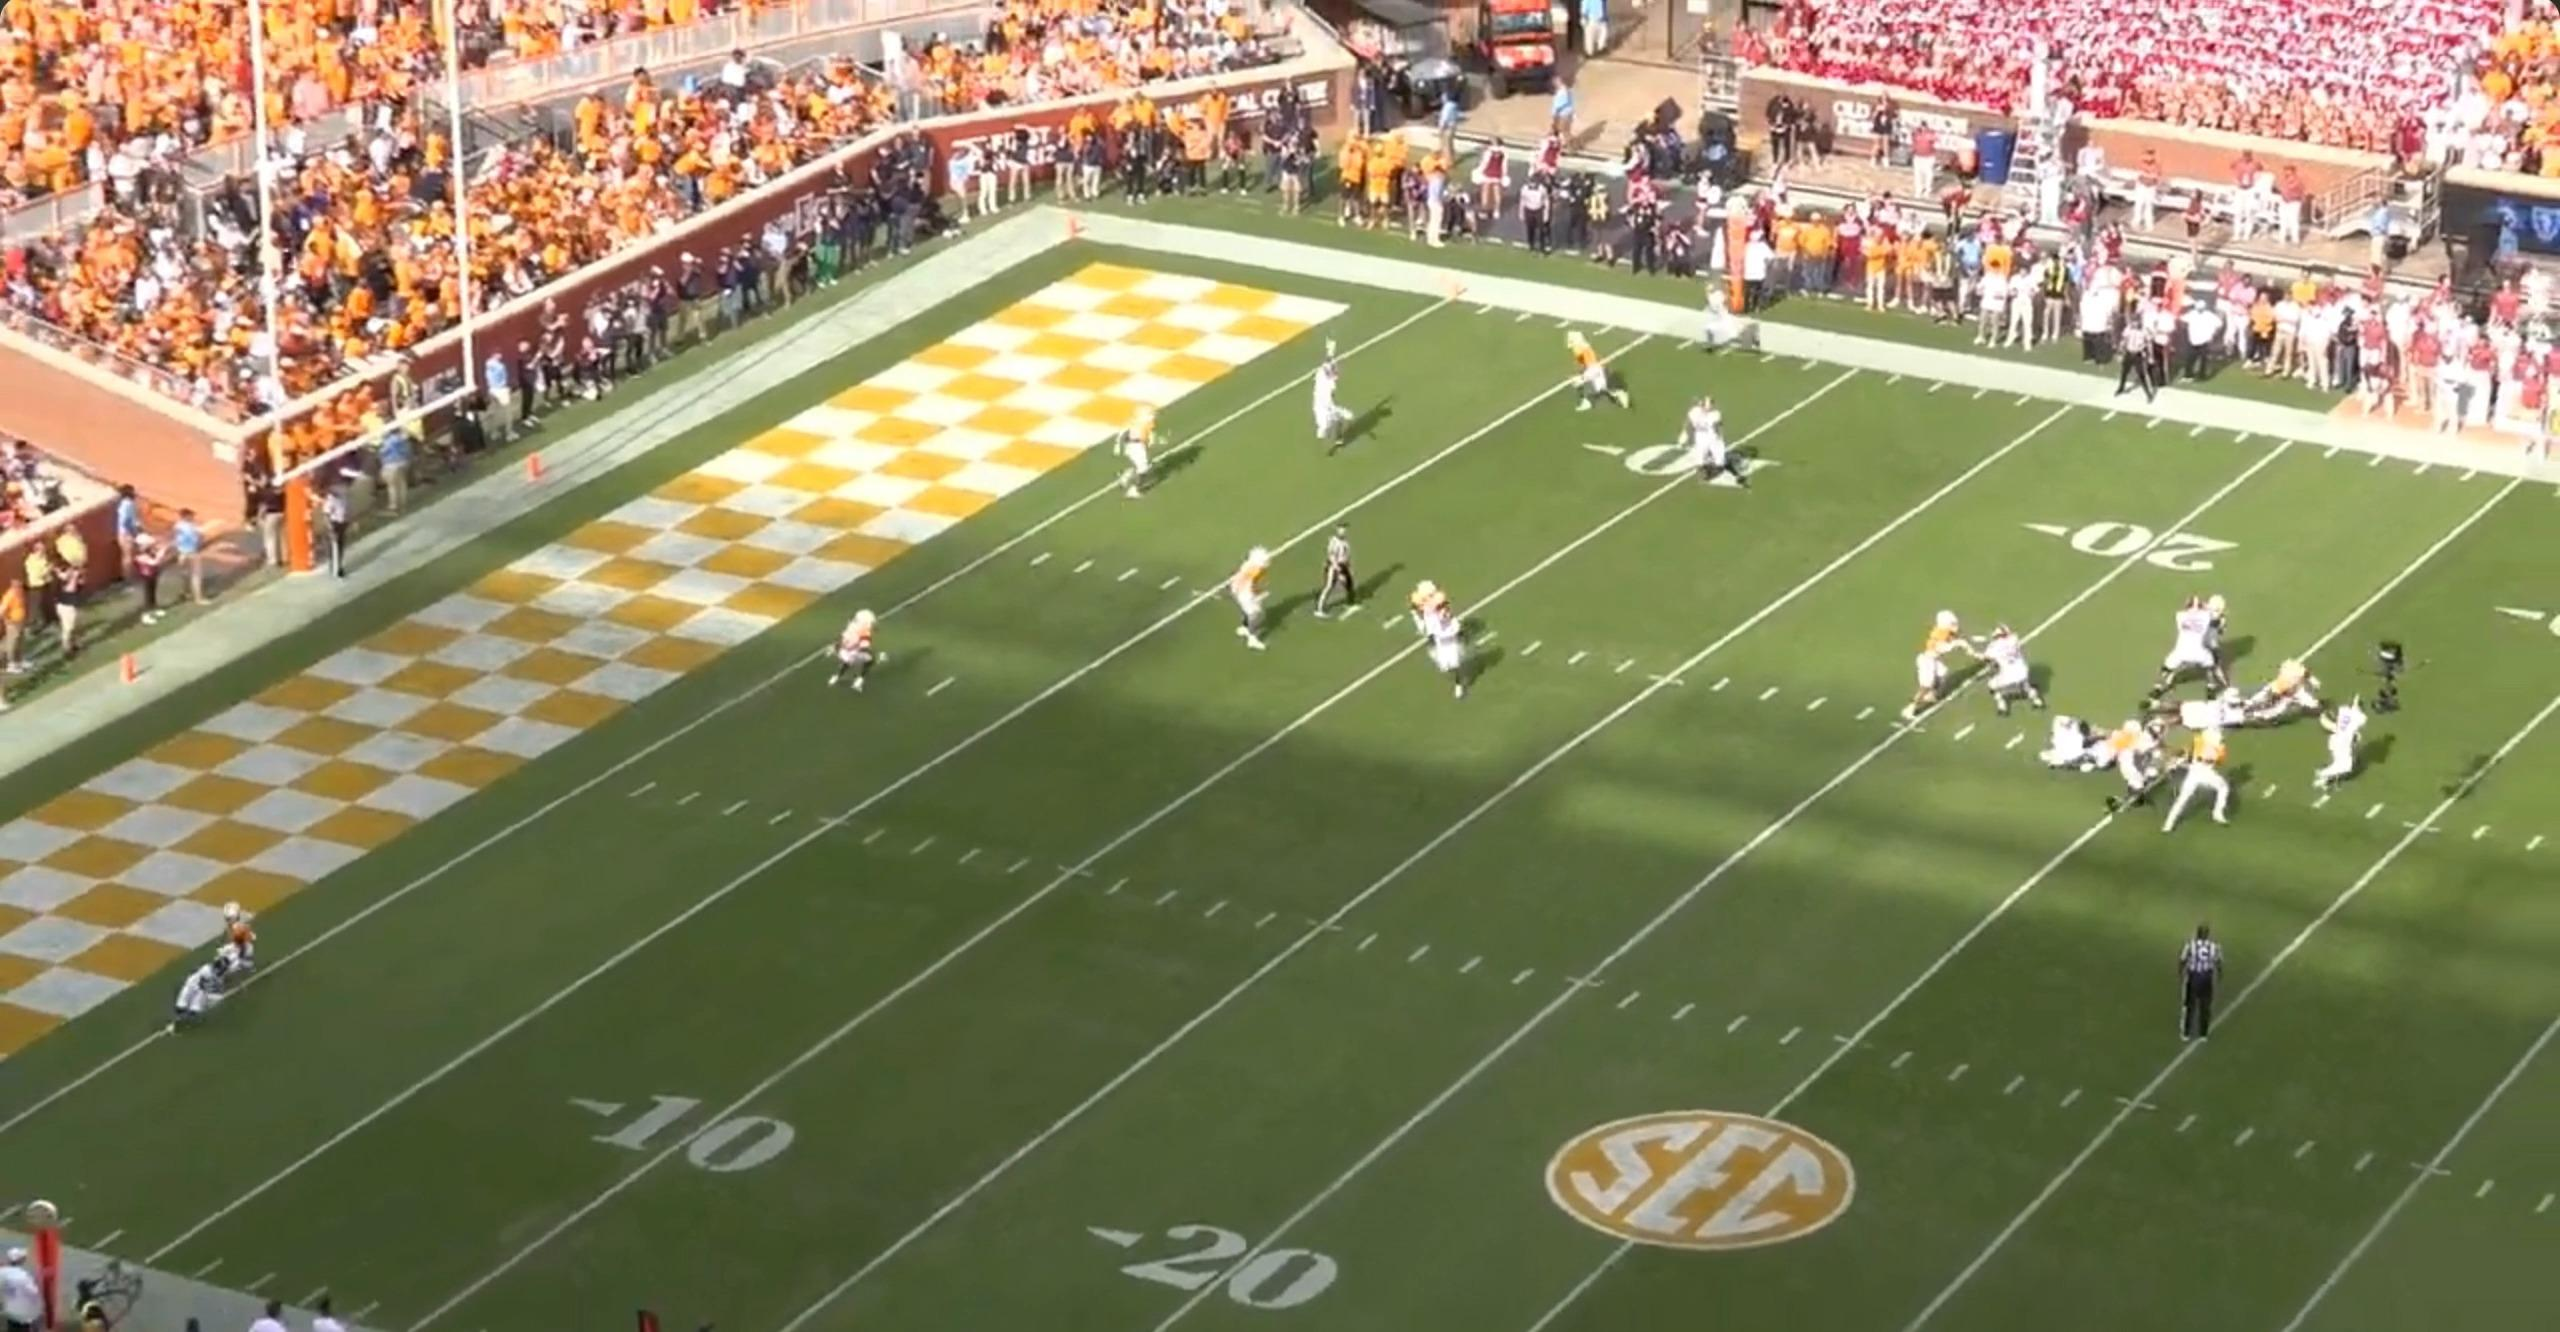defense: (1896, 613, 1966, 729), (2162, 745, 2242, 833), (1559, 330, 1629, 421), (203, 895, 256, 1010), (2245, 660, 2325, 735), (1222, 543, 1272, 653), (1410, 574, 1465, 672), (830, 609, 889, 699), (1116, 401, 1161, 503), (2188, 589, 2240, 675), (2081, 713, 2149, 775)
oline: (2149, 606, 2232, 707), (1961, 628, 2042, 724), (2105, 718, 2176, 817), (2174, 689, 2250, 741), (2040, 711, 2099, 770)
qb: (2308, 692, 2372, 799)
ref: (2169, 917, 2230, 1043), (315, 465, 364, 582), (1321, 520, 1370, 621), (2116, 313, 2166, 410)
skill: (161, 948, 249, 1039), (1680, 389, 1746, 491), (1419, 604, 1485, 702), (1310, 359, 1358, 457)
